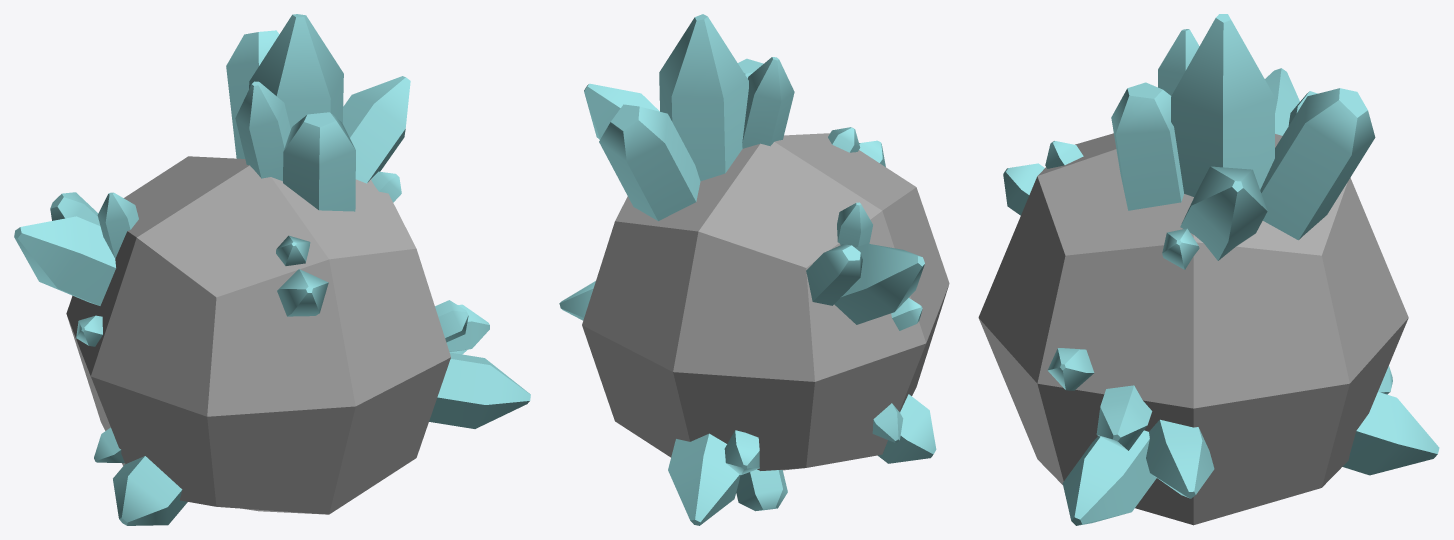
Rendered from crystal_stone02.fbx.
The picture shows the model from 3 angles, left to right: view 1: azimuth 30°, elevation 25°; view 2: azimuth 150°, elevation 25°; view 3: azimuth 270°, elevation 25°; orthographic projection. The views are drawn at different scales.
Visible parts, largest first — view 1: Cube, pCube69, pCube26, pCube32, pCube89, pCube27, pCube31, pCube83, pCube28, pCube92, pCube80, pCube70 (+6 smaller); view 2: Cube, pCube69, pCube28, pCube26, pCube82, pCube31, pCube70, pCube83, pCube27, pCube81, pCube80, pCube84 (+4 smaller); view 3: Cube, pCube69, pCube28, pCube32, pCube89, pCube27, pCube82, pCube90, pCube88, pCube31, pCube87, pCube92 (+3 smaller).
Boxes of the visible parts, x1,y1,x2,y2 form: Cube: (66, 156, 450, 514); pCube69: (249, 14, 343, 128); pCube26: (14, 216, 115, 305); pCube32: (283, 112, 355, 211); pCube89: (429, 352, 530, 428); pCube27: (342, 76, 410, 183); pCube31: (235, 81, 290, 181); pCube83: (113, 456, 187, 525); pCube28: (226, 30, 279, 158); pCube92: (277, 269, 328, 316); pCube80: (97, 192, 138, 258); pCube70: (50, 192, 100, 225); Cube: (582, 133, 949, 470); pCube69: (659, 14, 748, 181); pCube28: (599, 104, 700, 221); pCube26: (834, 243, 924, 324); pCube82: (668, 433, 740, 525); pCube31: (742, 57, 794, 148); pCube70: (806, 244, 862, 305); pCube83: (878, 394, 936, 463); pCube27: (584, 83, 659, 139); pCube81: (736, 469, 787, 511); pCube80: (837, 202, 872, 247); pCube84: (724, 430, 759, 474); Cube: (978, 133, 1408, 525); pCube69: (1171, 14, 1274, 196); pCube28: (1260, 88, 1375, 240); pCube32: (1111, 82, 1183, 210); pCube89: (1062, 430, 1156, 525); pCube27: (1180, 166, 1267, 260); pCube82: (1342, 392, 1439, 475); pCube90: (1146, 419, 1214, 498); pCube88: (1096, 385, 1152, 450); pCube31: (1158, 29, 1199, 95); pCube87: (1047, 348, 1094, 390); pCube92: (1003, 163, 1044, 215).
Size of the model in its own units: 3.02 by 3.22 by 2.56.
